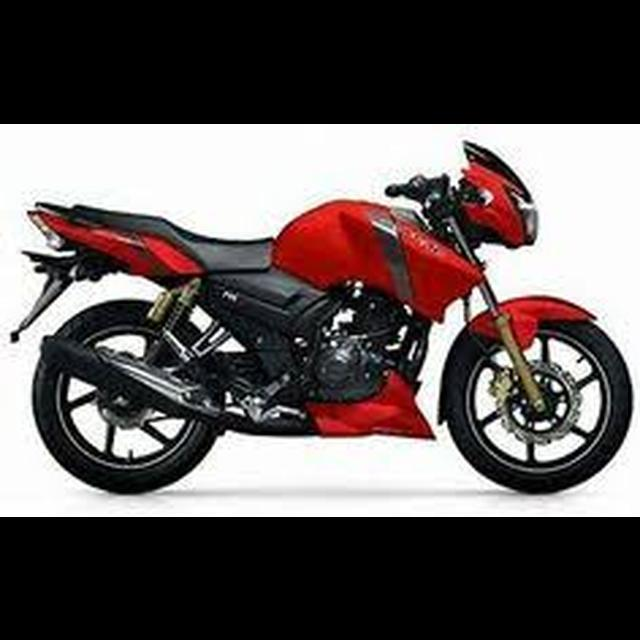motorcycle: (5, 133, 640, 501)
